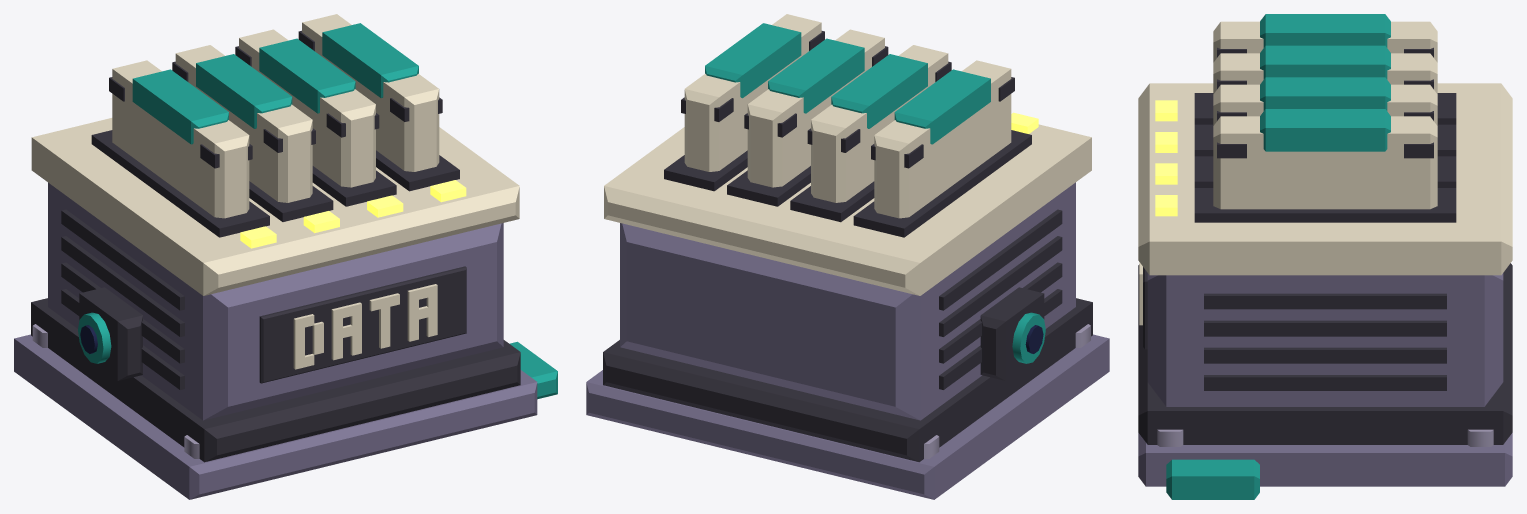
File: data_storage.glb
3 views of the same model, side by side, from view 1: azimuth 30°, elevation 25°; view 2: azimuth 150°, elevation 25°; view 3: azimuth 270°, elevation 25° (orthographic). The views are drawn at different scales.
Visible parts, largest first — view 1: unit_graphite, unit_creamHull, unit_purpleGrey, plate_purpleGrey, cartridge_1_creamHull, cartridge_4_creamHull, cartridge_3_creamHull, cartridge_2_creamHull, cartridge_1_teal, cartridge_4_teal, cartridge_3_teal, cartridge_2_teal (+4 smaller); view 2: unit_purpleGrey, unit_graphite, unit_creamHull, plate_purpleGrey, cartridge_1_creamHull, cartridge_3_creamHull, cartridge_4_creamHull, cartridge_2_creamHull, cartridge_3_teal, cartridge_4_teal, cartridge_1_teal, cartridge_2_teal (+4 smaller); view 3: unit_graphite, unit_creamHull, unit_purpleGrey, cartridge_4_creamHull, plate_purpleGrey, cartridge_4_teal, cartridge_2_teal, cartridge_1_teal, cartridge_3_teal, plate_teal, cartridge_3_creamHull, cartridge_1_creamHull (+4 smaller).
Boxes of the visible parts, <box> form: unit_graphite: <box>31,130,520,462</box>; unit_creamHull: <box>31,118,519,369</box>; unit_purpleGrey: <box>48,182,503,420</box>; plate_purpleGrey: <box>14,334,537,499</box>; cartridge_1_creamHull: <box>112,60,249,218</box>; cartridge_4_creamHull: <box>302,14,439,171</box>; cartridge_3_creamHull: <box>239,29,375,187</box>; cartridge_2_creamHull: <box>175,45,312,202</box>; cartridge_1_teal: <box>132,69,228,144</box>; cartridge_4_teal: <box>322,23,418,97</box>; cartridge_3_teal: <box>259,38,355,113</box>; cartridge_2_teal: <box>196,54,292,128</box>; unit_purpleGrey: <box>620,182,1075,420</box>; unit_graphite: <box>603,130,1092,462</box>; unit_creamHull: <box>604,124,1091,295</box>; plate_purpleGrey: <box>586,334,1109,499</box>; cartridge_1_creamHull: <box>874,60,1011,218</box>; cartridge_3_creamHull: <box>747,29,884,187</box>; cartridge_4_creamHull: <box>684,14,821,171</box>; cartridge_2_creamHull: <box>811,45,948,202</box>; cartridge_3_teal: <box>768,38,864,113</box>; cartridge_4_teal: <box>705,23,801,98</box>; cartridge_1_teal: <box>894,69,990,144</box>; cartridge_2_teal: <box>831,54,927,128</box>; unit_graphite: <box>1138,93,1512,444</box>; unit_creamHull: <box>1138,83,1512,325</box>; unit_purpleGrey: <box>1147,273,1503,406</box>; cartridge_4_creamHull: <box>1213,116,1437,209</box>; plate_purpleGrey: <box>1138,433,1512,486</box>; cartridge_4_teal: <box>1260,109,1390,151</box>; cartridge_2_teal: <box>1260,45,1390,79</box>; cartridge_1_teal: <box>1260,14,1390,47</box>; cartridge_3_teal: <box>1260,77,1390,110</box>; plate_teal: <box>1166,459,1259,499</box>; cartridge_3_creamHull: <box>1213,84,1437,125</box>; cartridge_1_creamHull: <box>1213,21,1437,62</box>.
Size of the model in its own units: 0.25 by 0.194 by 0.2.
